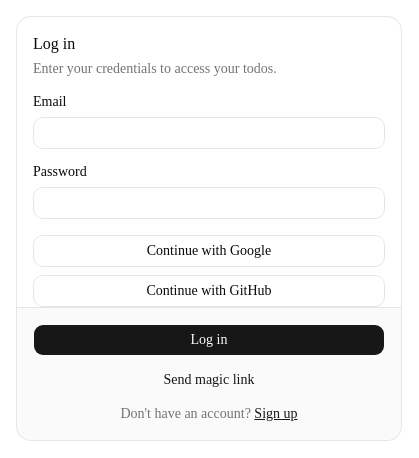
LoginPage › shows check-your-email screen after magic link is sent
Step 1. Click the button "Send magic link" → (209, 380), box x1=33 y1=364 x2=385 y2=396
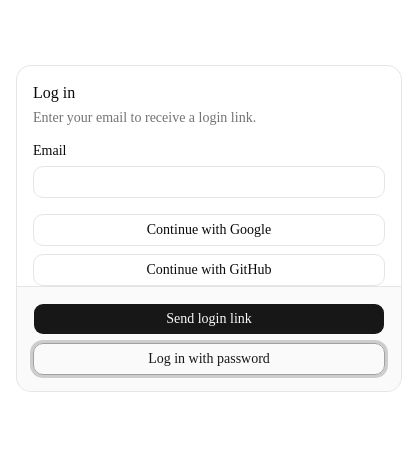
Step 2. Type "test@example.com" into the field labelled "Email" → (209, 182), box x1=33 y1=166 x2=385 y2=198
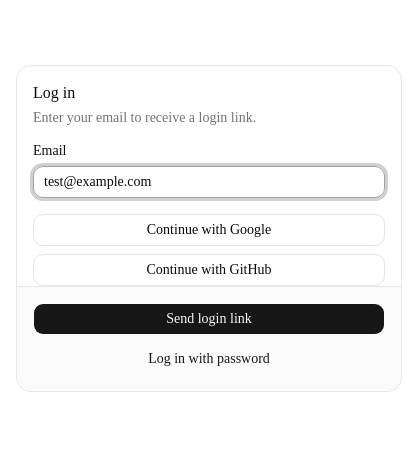
Step 3. Click the button "Send login link" → (209, 318), box x1=33 y1=302 x2=385 y2=334
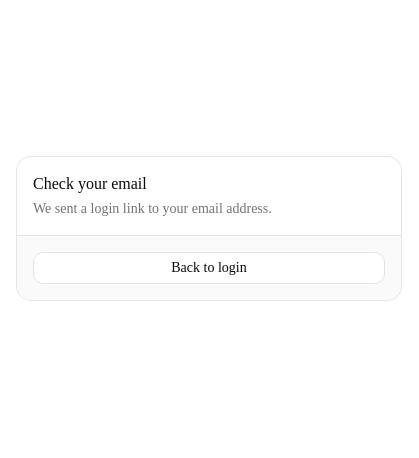
Now the text "We sent a login link to your email address." is shown, box x1=33 y1=200 x2=272 y2=216
